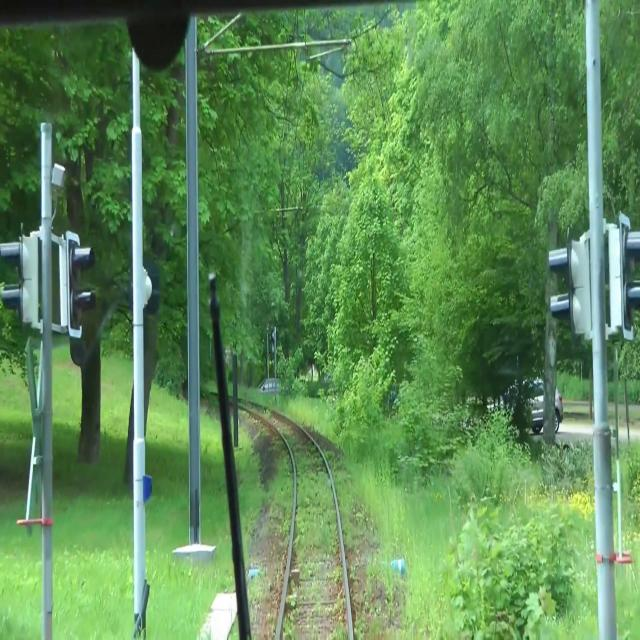rail-track: (253, 407, 348, 639)
